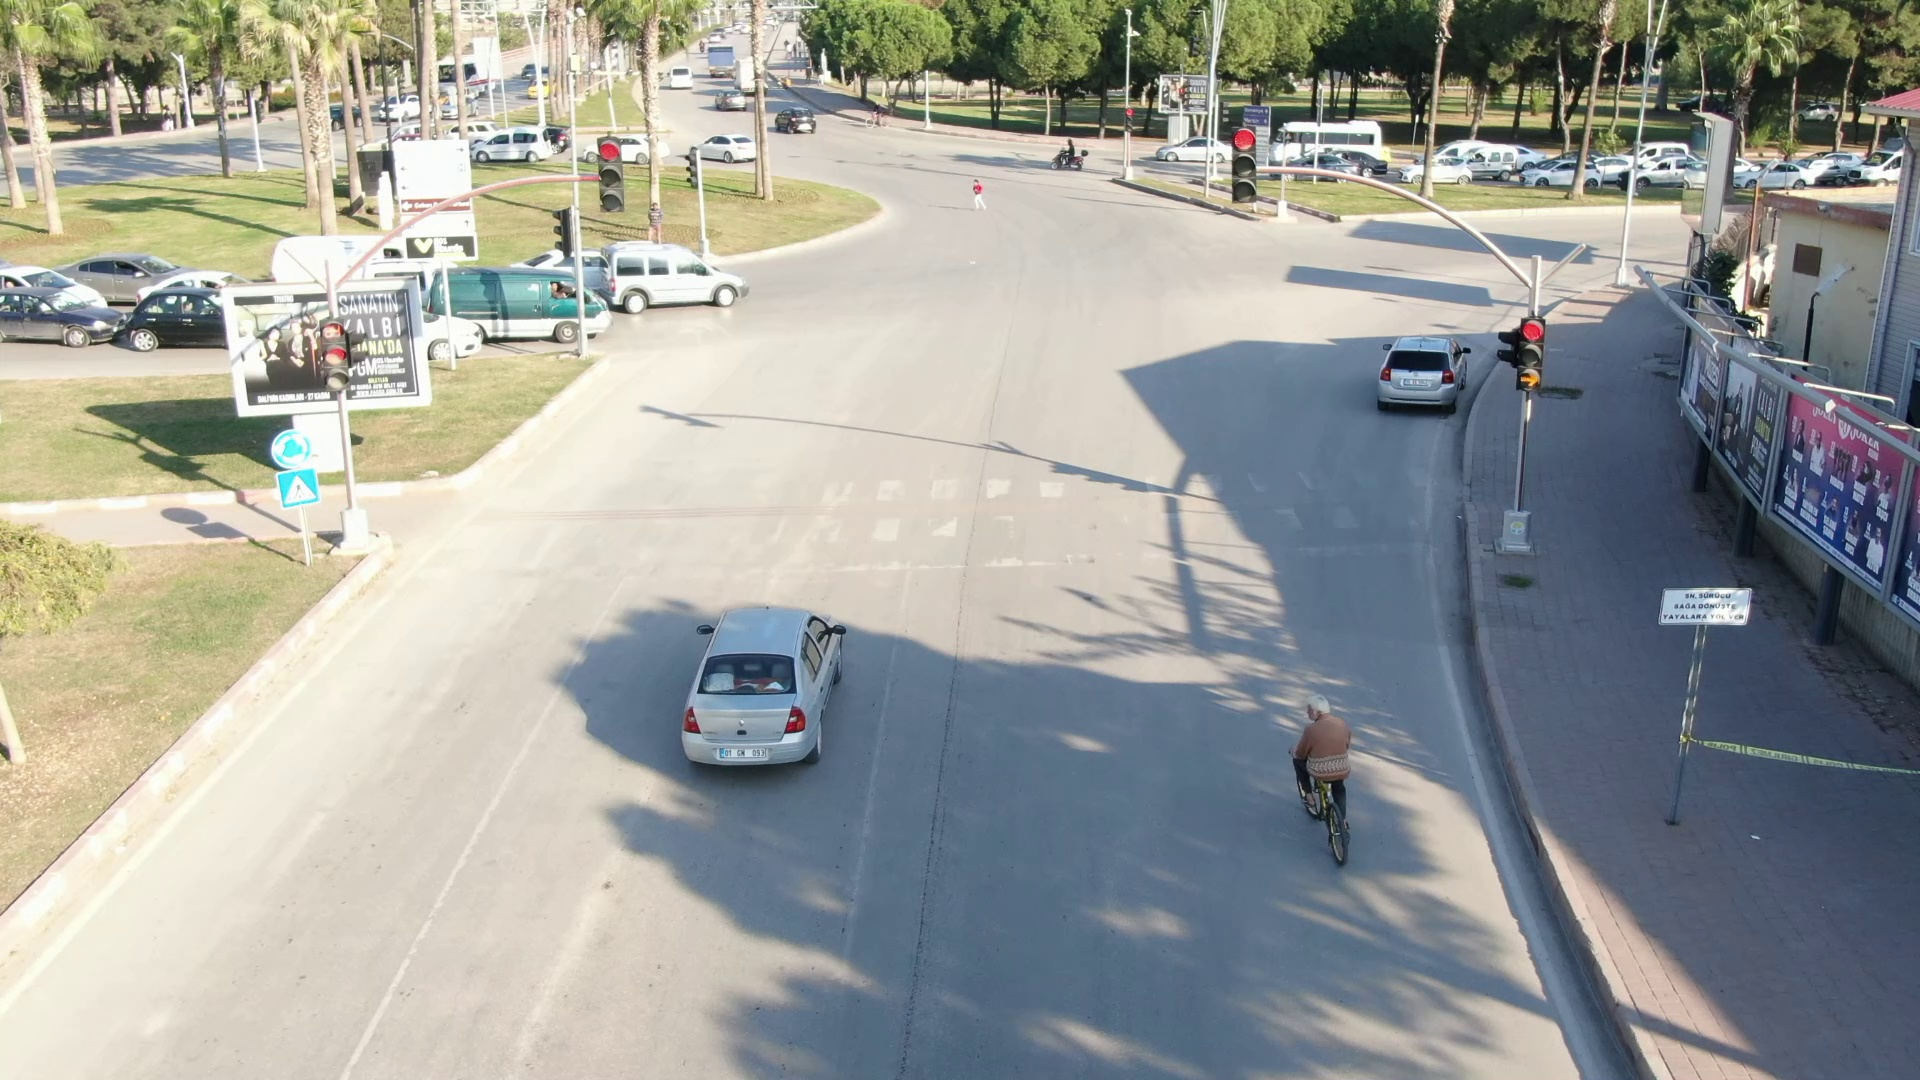car: (653, 572, 938, 804), (420, 258, 635, 351), (1354, 310, 1489, 444), (590, 234, 766, 315), (682, 124, 773, 172), (765, 97, 824, 147)
person: (1264, 683, 1382, 820)
